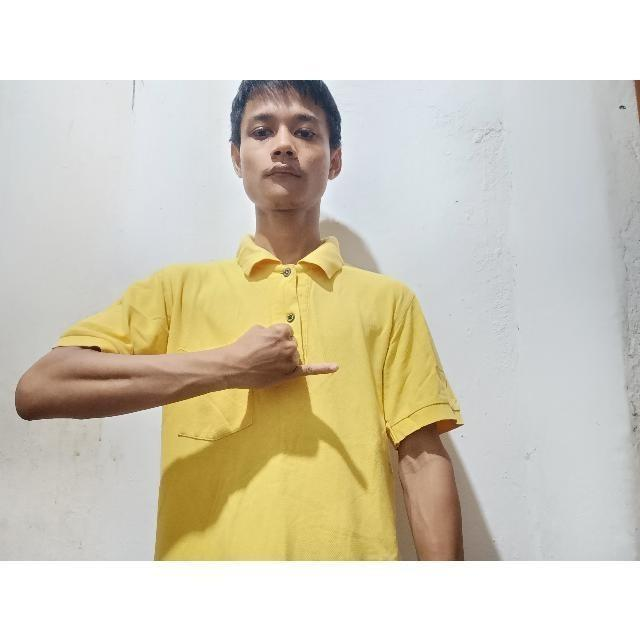J: (216, 314, 346, 407)
